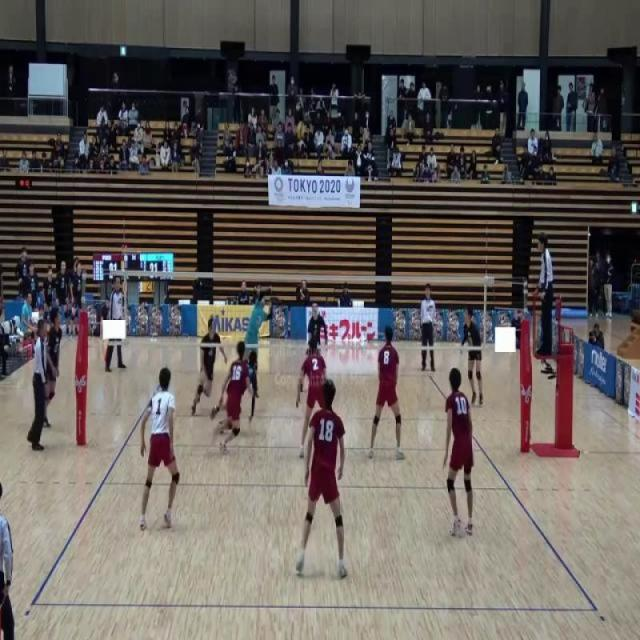volleyball: (295, 120, 305, 140)
